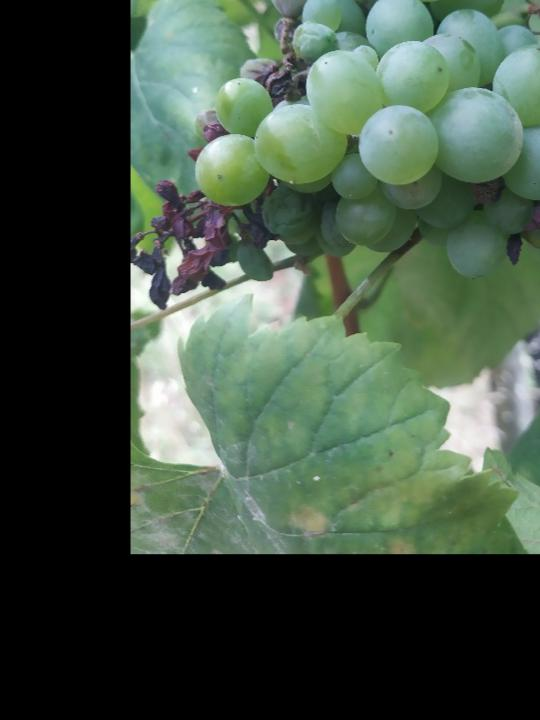grape: (131, 0, 540, 316)
